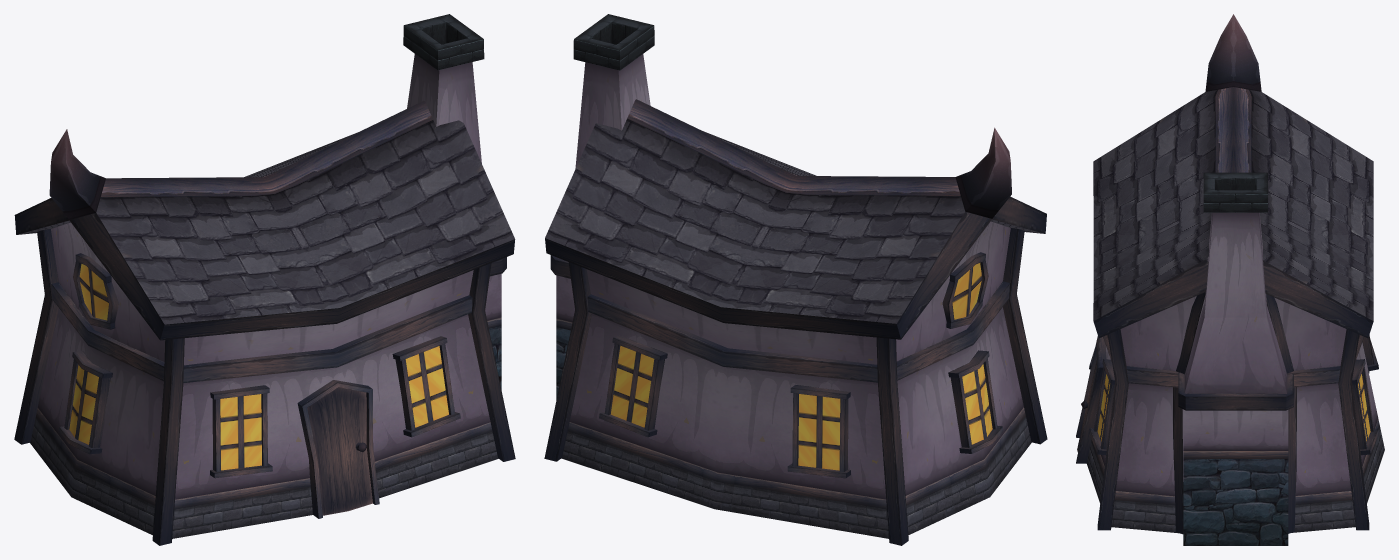
Rendered from House_A_Chimney.fbx.
3 views of the same model, side by side, from view 1: azimuth 30°, elevation 25°; view 2: azimuth 150°, elevation 25°; view 3: azimuth 270°, elevation 25° (orthographic). The views are drawn at different scales.
Parts seen in each view (by area): view 1: House_A_Chimney; view 2: House_A_Chimney; view 3: House_A_Chimney.
Part boxes in pixels (box(x1,y1,x2,y2)): House_A_Chimney: box(14, 14, 515, 545); House_A_Chimney: box(544, 14, 1047, 545); House_A_Chimney: box(1076, 14, 1384, 545).
Size of the model in its own units: 246 by 204 by 163.
Materials: 1 (1 with a texture image).
